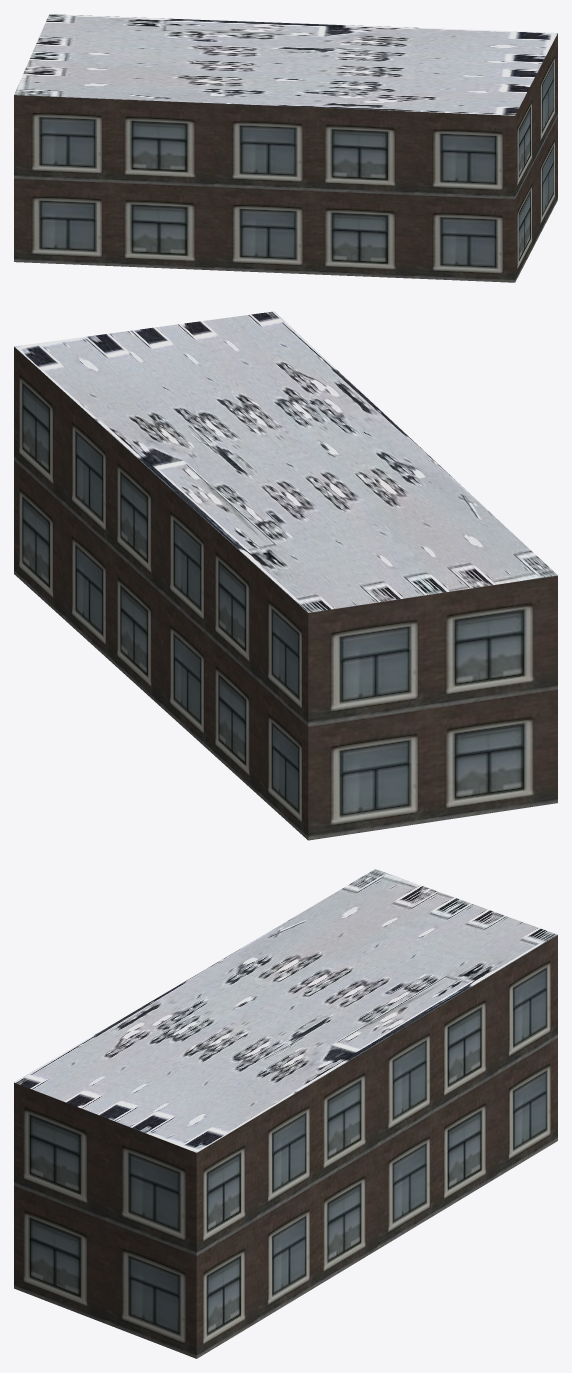
The model's file is ResTex__3778.fbx.
3 views of the same model, one above another, from view 1: azimuth 30°, elevation 25°; view 2: azimuth 150°, elevation 25°; view 3: azimuth 270°, elevation 25° (orthographic). The views are drawn at different scales.
Visible parts, largest first — view 1: CityEngineMaterial_16_m, CityEngineMaterial_15_m; view 2: CityEngineMaterial_16_m, CityEngineMaterial_15_m; view 3: CityEngineMaterial_16_m, CityEngineMaterial_15_m.
Part boxes in pixels (box(x1,y1,x2,y2)): CityEngineMaterial_16_m: box(14, 33, 557, 282); CityEngineMaterial_15_m: box(14, 14, 557, 115); CityEngineMaterial_16_m: box(14, 347, 557, 840); CityEngineMaterial_15_m: box(14, 311, 557, 612); CityEngineMaterial_16_m: box(14, 935, 557, 1358); CityEngineMaterial_15_m: box(14, 869, 557, 1152).
Bounding box in the file's own units: 17.73 × 6 × 14.36.
Materials: 2 (2 with a texture image).
